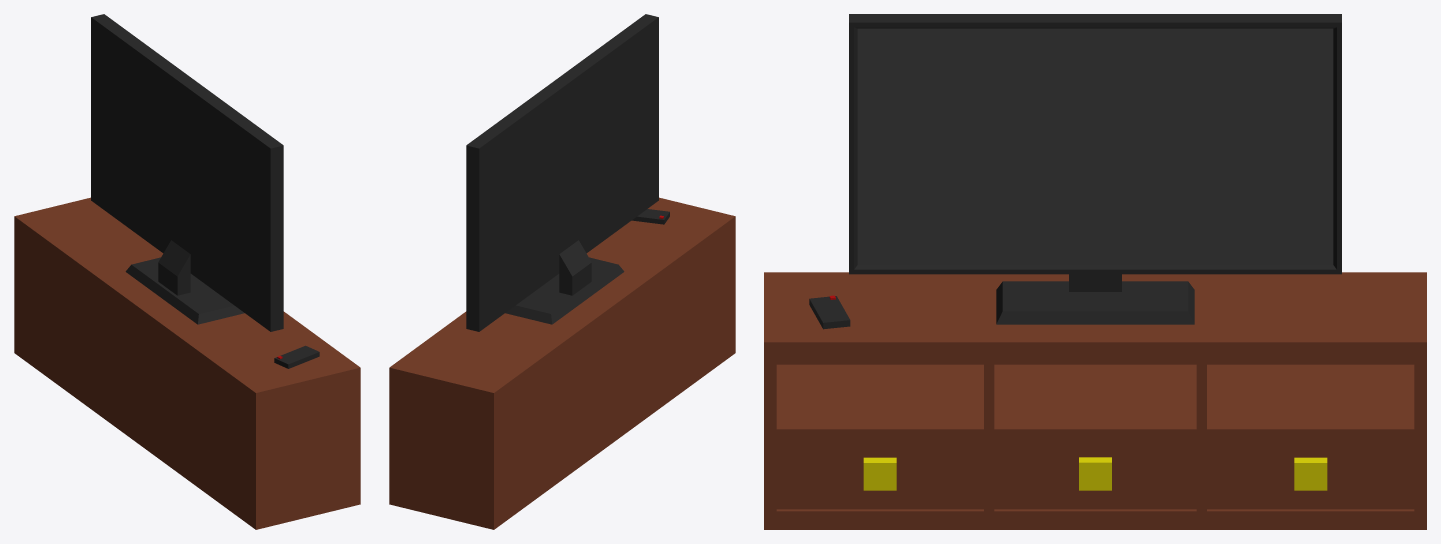
File: tv_table.fbx
The picture shows the model from 3 angles, left to right: view 1: azimuth 30°, elevation 25°; view 2: azimuth 150°, elevation 25°; view 3: azimuth 270°, elevation 25°; orthographic projection. The views are drawn at different scales.
Visible parts, largest first — view 1: Cube, Plane, Cube_001; view 2: Cube, Plane, Cube_001; view 3: Cube, Plane, Cube_001.
Part boxes in pixels (<box>): Cube: <box>14,197,360,529</box>; Plane: <box>91,14,283,331</box>; Cube_001: <box>274,345,319,368</box>; Cube: <box>389,197,735,529</box>; Plane: <box>466,14,658,331</box>; Cube_001: <box>632,209,669,224</box>; Cube: <box>764,272,1426,529</box>; Plane: <box>849,14,1341,324</box>; Cube_001: <box>809,295,850,329</box>.
Size of the model in its own units: 0.42 by 1.27 by 1.6.
